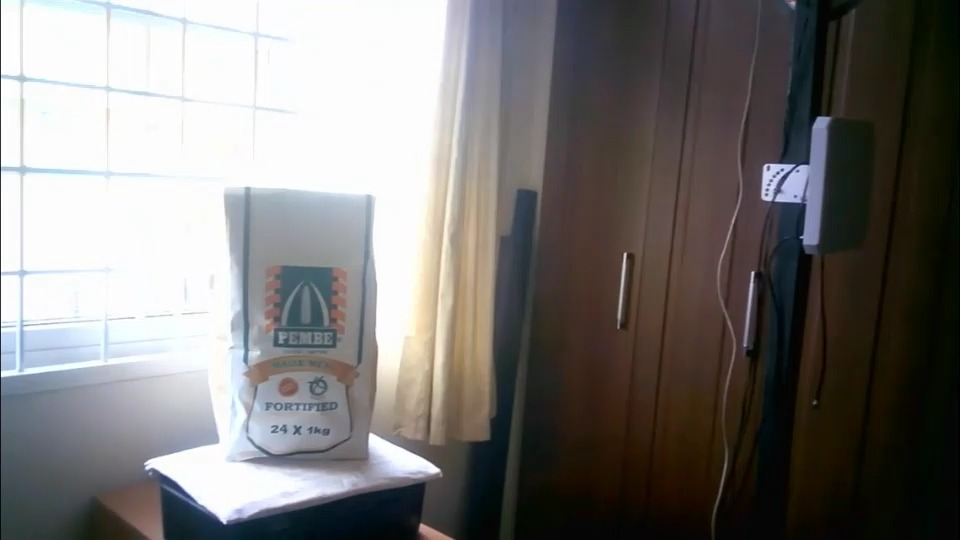maize_flour_green_label: (208, 181, 376, 462)
